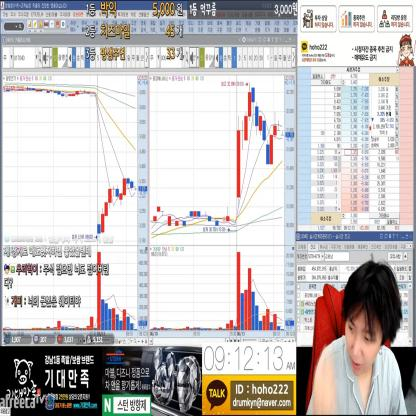streamer: (306, 260, 408, 416)
